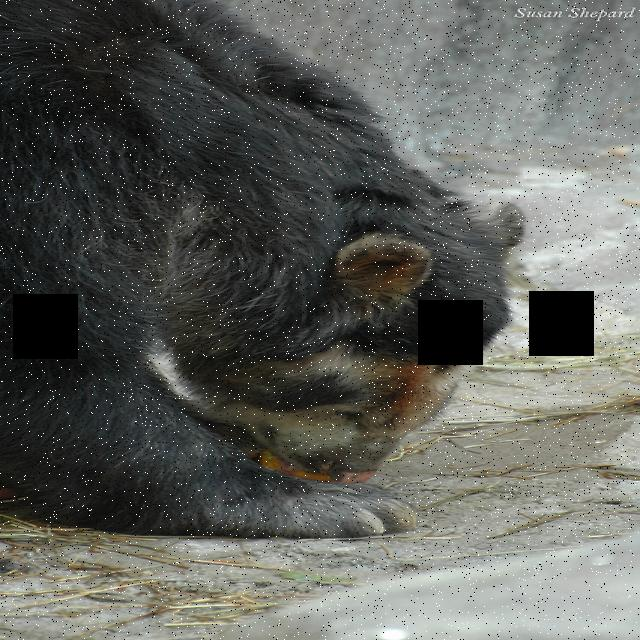Bear: (6, 0, 526, 565)
